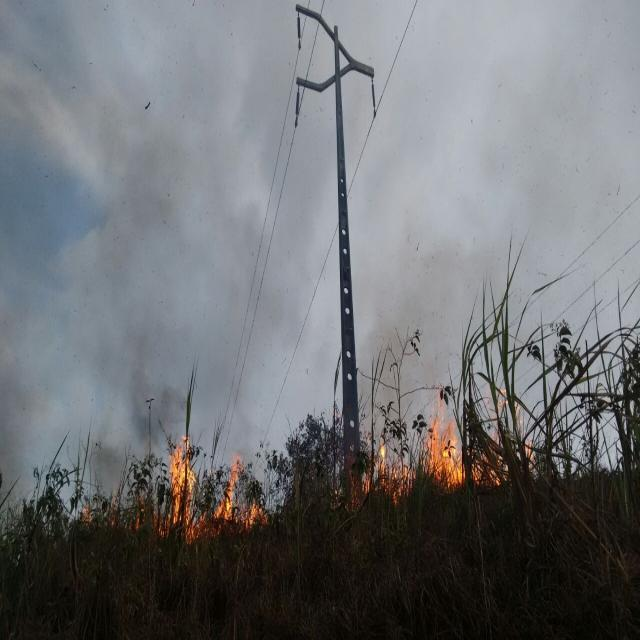Fire: (346, 383, 536, 505), (152, 432, 270, 545)
Smoke: (81, 95, 189, 497)
